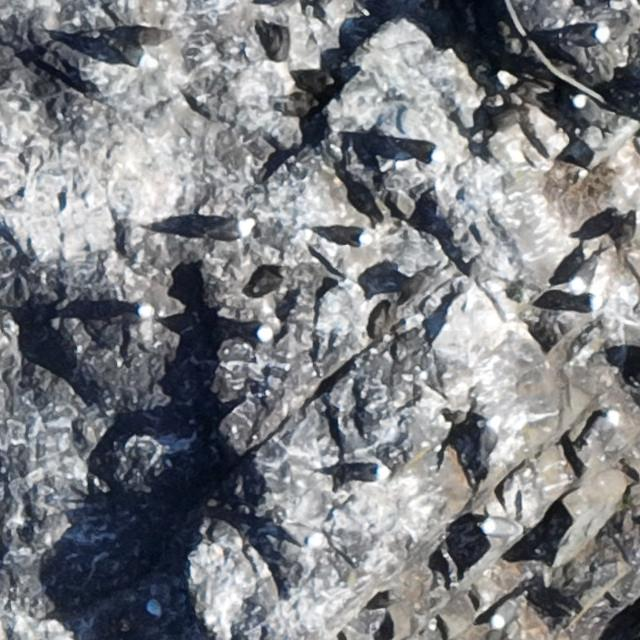umineko: (108, 36, 157, 68), (476, 416, 502, 470), (123, 596, 164, 628), (396, 138, 445, 162), (571, 95, 606, 128), (336, 462, 389, 482), (587, 409, 619, 442), (212, 220, 254, 245), (114, 306, 156, 328), (564, 292, 606, 314), (233, 324, 274, 344), (570, 260, 597, 290), (568, 24, 608, 44), (332, 227, 372, 246), (492, 602, 516, 628), (287, 531, 324, 547), (486, 518, 517, 534)
